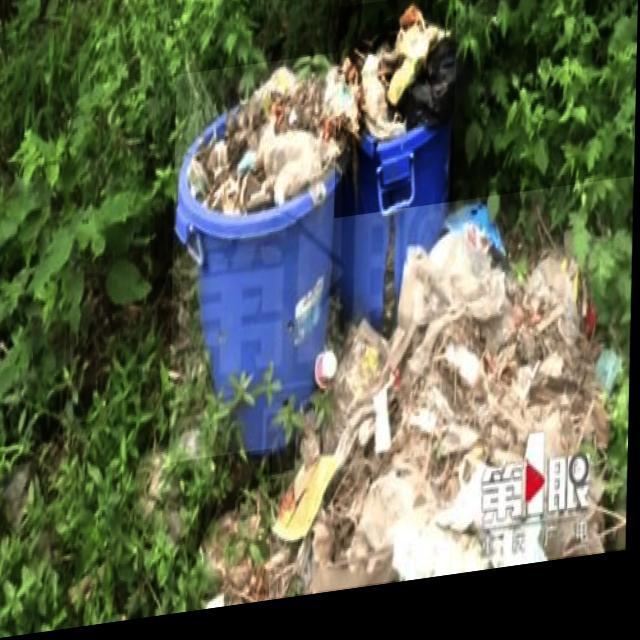garbage: (272, 195, 634, 606)
overflow: (170, 62, 346, 468), (334, 4, 458, 340)
